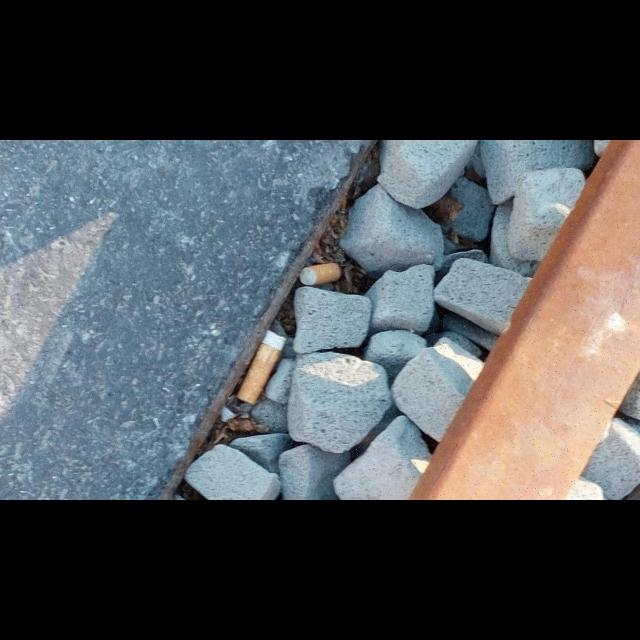cigarette: (236, 328, 288, 406), (299, 263, 342, 286)
